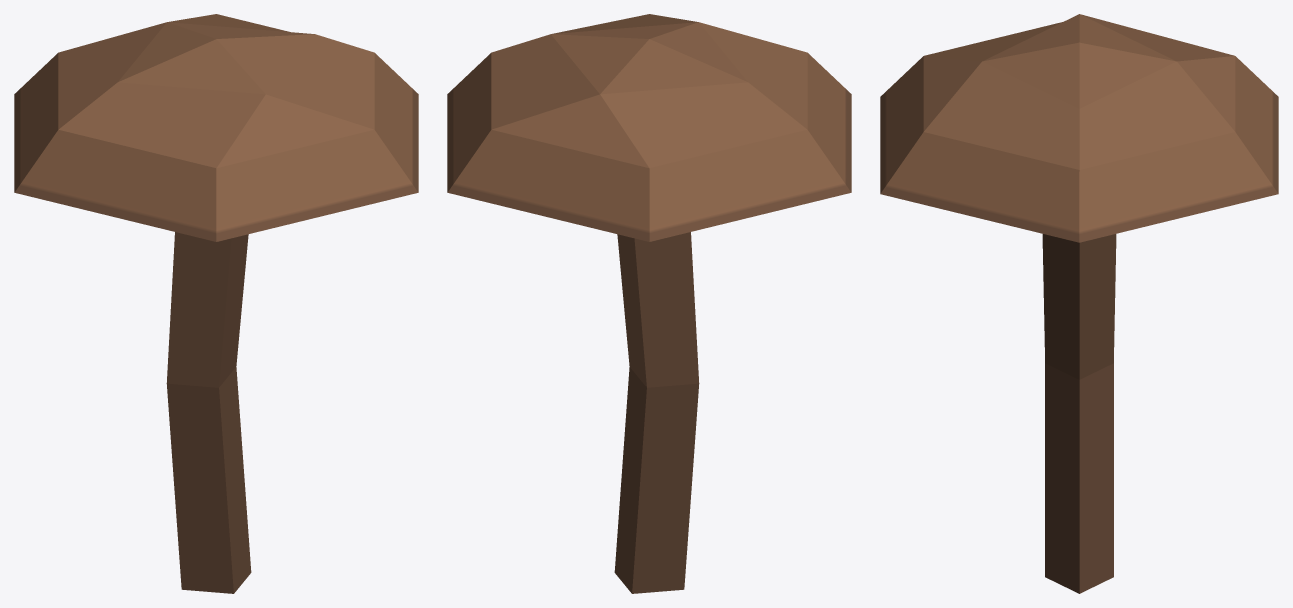
The model's file is SM_Prop_Mushroom_02.fbx.
3 renders of one model, left to right at view 1: azimuth 30°, elevation 25°; view 2: azimuth 150°, elevation 25°; view 3: azimuth 270°, elevation 25°, orthographic.
Visible parts, largest first — view 1: SM_Prop_Mushroom_02; view 2: SM_Prop_Mushroom_02; view 3: SM_Prop_Mushroom_02.
Boxes of the visible parts, left/top/right/bottom form: SM_Prop_Mushroom_02: left=14, top=14, right=418, bottom=593; SM_Prop_Mushroom_02: left=447, top=14, right=851, bottom=593; SM_Prop_Mushroom_02: left=880, top=14, right=1278, bottom=593.
Size of the model in its own units: 16.69 by 21.4 by 14.46.
1 material, 1 textured.
